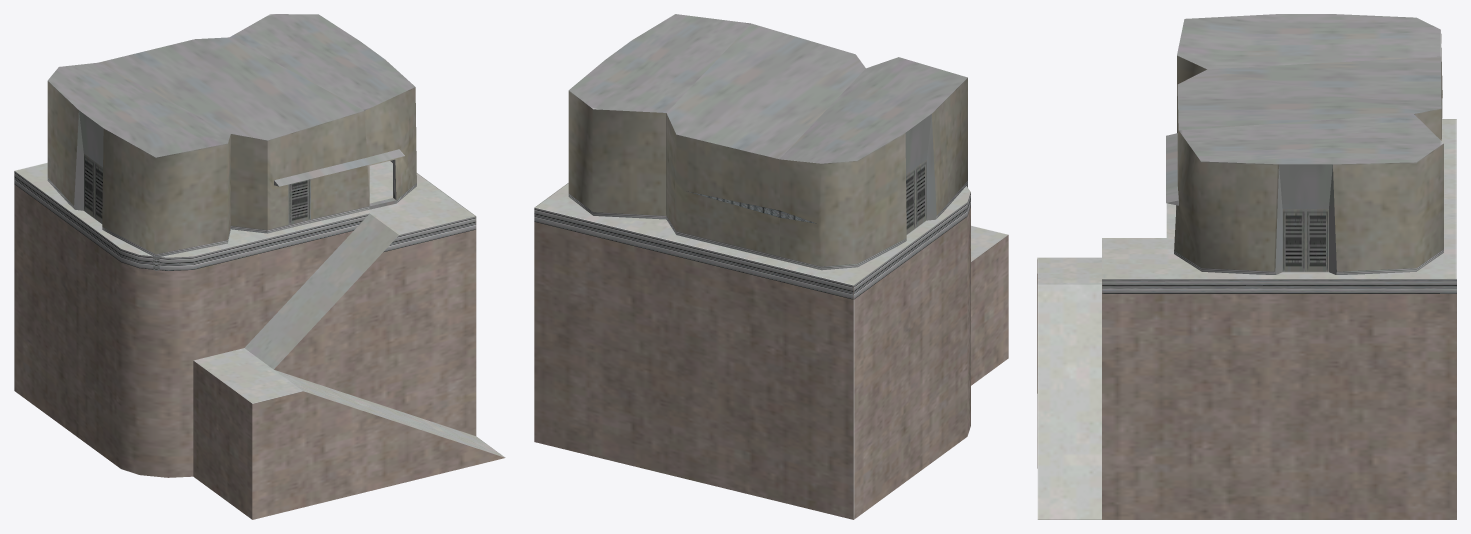
File: ply_corl_house_m_s01_fp1_r0_exterior_mesh_l2.fbx
3 views of the same model, side by side, from view 1: azimuth 30°, elevation 25°; view 2: azimuth 150°, elevation 25°; view 3: azimuth 270°, elevation 25° (orthographic). The views are drawn at different scales.
Visible parts, largest first — view 1: mesh_node; view 2: mesh_node; view 3: mesh_node.
Boxes of the visible parts, bbox=[...] form: mesh_node: bbox=[14, 14, 505, 519]; mesh_node: bbox=[534, 14, 1008, 519]; mesh_node: bbox=[1037, 14, 1456, 519].
Bounding box in the file's own units: 23.53 × 24 × 26.07.
Materials: 2 (2 with a texture image).
